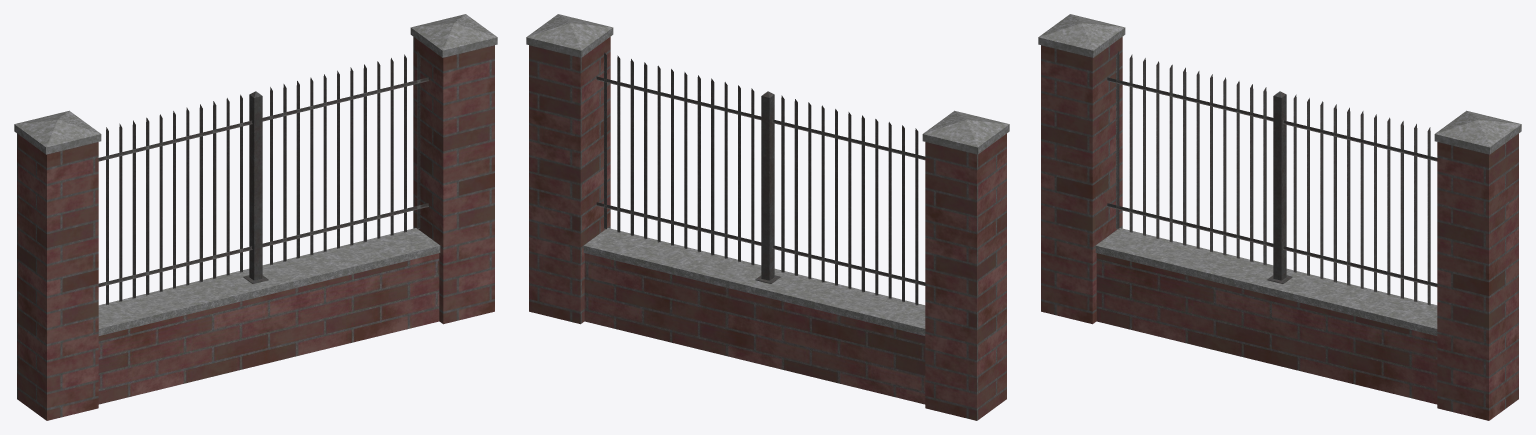
Rendered from brick_steel_fence.glb.
3 views of the same model, side by side, from view 1: azimuth 30°, elevation 25°; view 2: azimuth 150°, elevation 25°; view 3: azimuth 330°, elevation 25° (orthographic).
Visible parts, largest first — view 1: fence, pillar2, pillar; view 2: fence, pillar2, pillar; view 3: fence, pillar, pillar2.
Boxes of the visible parts, x1,y1,x2,y2 form: fence: (98,51,440,404); pillar2: (14,110,101,420); pillar: (410,14,497,324); fence: (583,52,925,404); pillar2: (922,110,1009,420); pillar: (526,14,613,324); fence: (1095,51,1437,404); pillar: (1434,110,1521,420); pillar2: (1038,14,1125,324).
Size of the model in its own units: 3.27 by 1.97 by 0.3999.
Materials: 1 (1 with a texture image).
